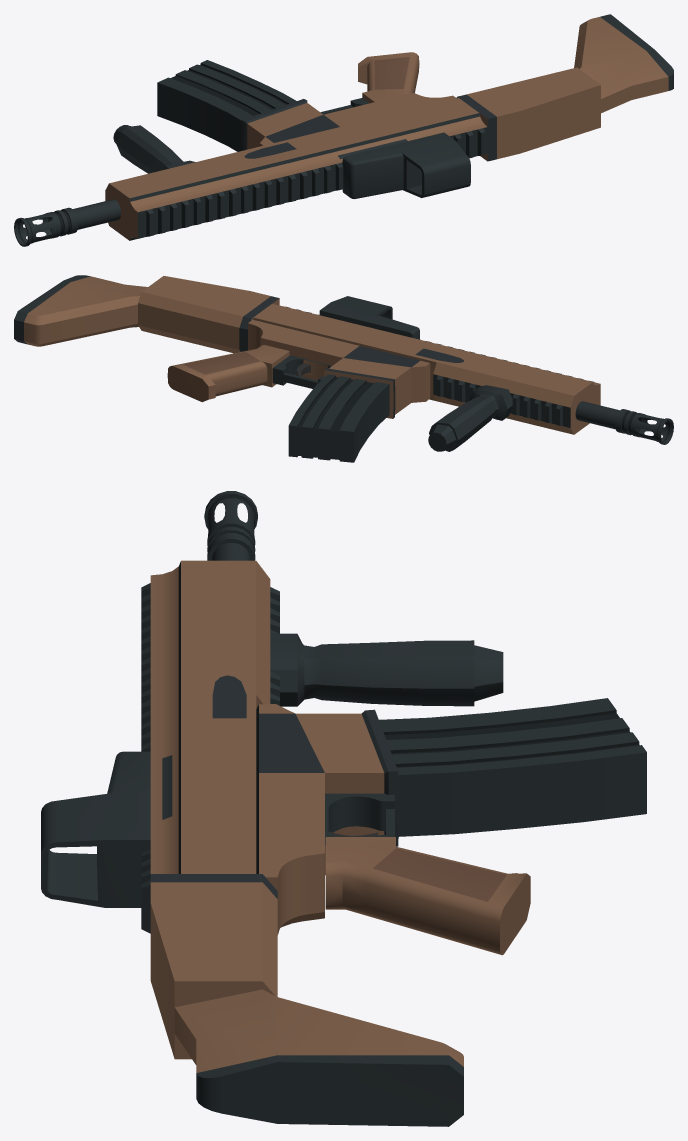
File: robotmaingun2.fbx
3 views of the same model, one above another, from view 1: azimuth 30°, elevation 25°; view 2: azimuth 150°, elevation 25°; view 3: azimuth 270°, elevation 25° (orthographic). The views are drawn at different scales.
Visible parts, largest first — view 1: MG1; view 2: MG1; view 3: MG1.
Part boxes in pixels (box(x1,y1,x2,y2)): MG1: box(14, 14, 673, 246); MG1: box(14, 275, 673, 462); MG1: box(41, 491, 646, 1126).
Size of the model in its own units: 3.55 by 0.2227 by 1.57.
